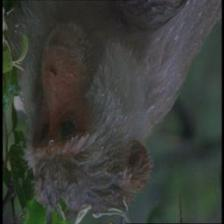monkey: (18, 16, 158, 223)
